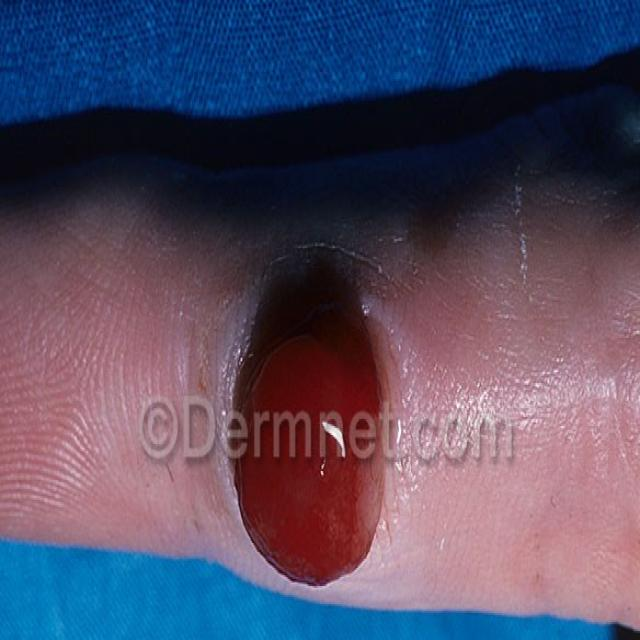Vascular Tumors: (207, 244, 408, 640)
